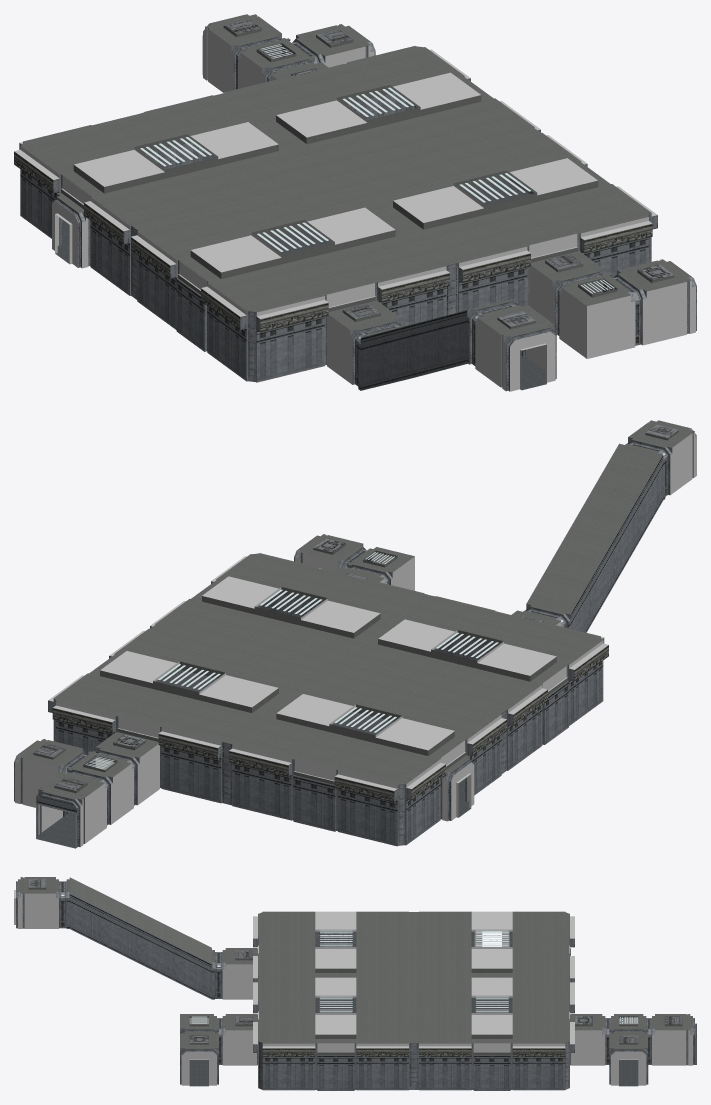
File: poi_all_impl_bunker_warren_s01_r78_smallroom78_mesh_r78.fbx
3 renders of one model, top to bottom at view 1: azimuth 30°, elevation 25°; view 2: azimuth 150°, elevation 25°; view 3: azimuth 270°, elevation 25°, orthographic. The views are drawn at different scales.
Parts seen in each view (by area): view 1: mesh_node; view 2: mesh_node; view 3: mesh_node.
Part boxes in pixels (<box>): mesh_node: <box>14,14,696,391</box>; mesh_node: <box>14,420,696,848</box>; mesh_node: <box>14,877,696,1090</box>.
Size of the model in its own units: 33.5 by 12.2 by 70.
